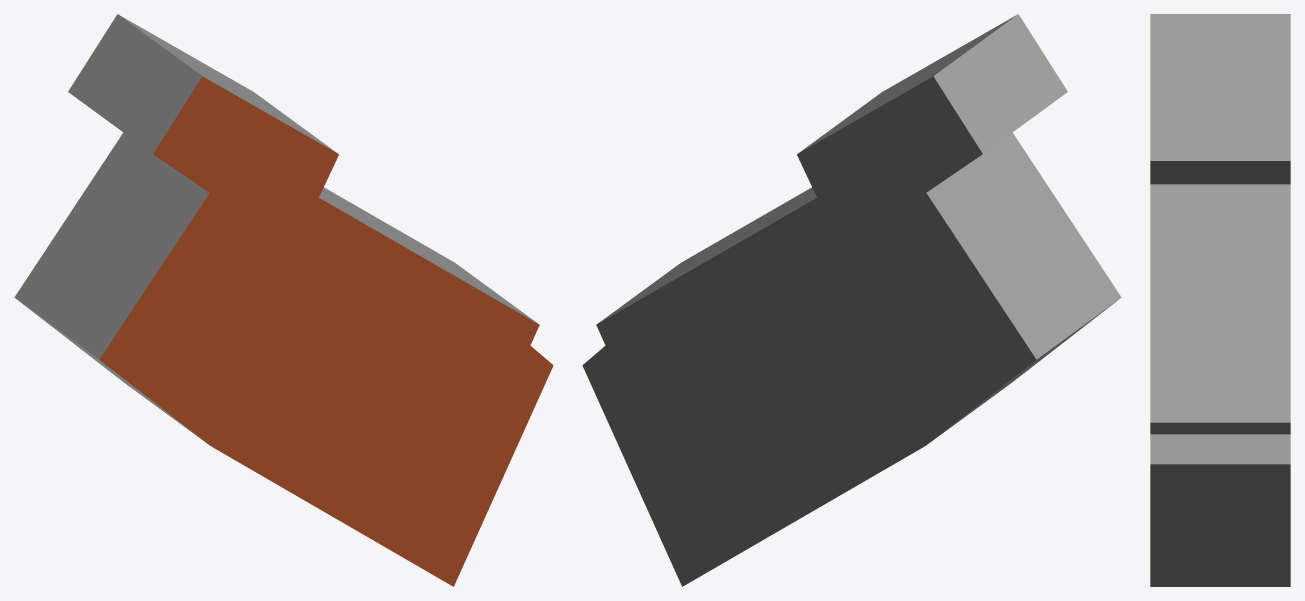
Rendered from construction_3318_assumed_A_Casa_h6m.obj.
3 renders of one model, left to right at view 1: azimuth 30°, elevation 25°; view 2: azimuth 150°, elevation 25°; view 3: azimuth 270°, elevation 25°, orthographic. The views are drawn at different scales.
Visible parts, largest first — view 1: construction_3318_assumed_A_Casa; view 2: construction_3318_assumed_A_Casa; view 3: construction_3318_assumed_A_Casa.
Part boxes in pixels (x1,y1,x2,y2): construction_3318_assumed_A_Casa: [14, 14, 553, 586]; construction_3318_assumed_A_Casa: [582, 14, 1121, 586]; construction_3318_assumed_A_Casa: [1150, 14, 1290, 586].
Size of the model in its own units: 18.5 by 22.26 by 6.
